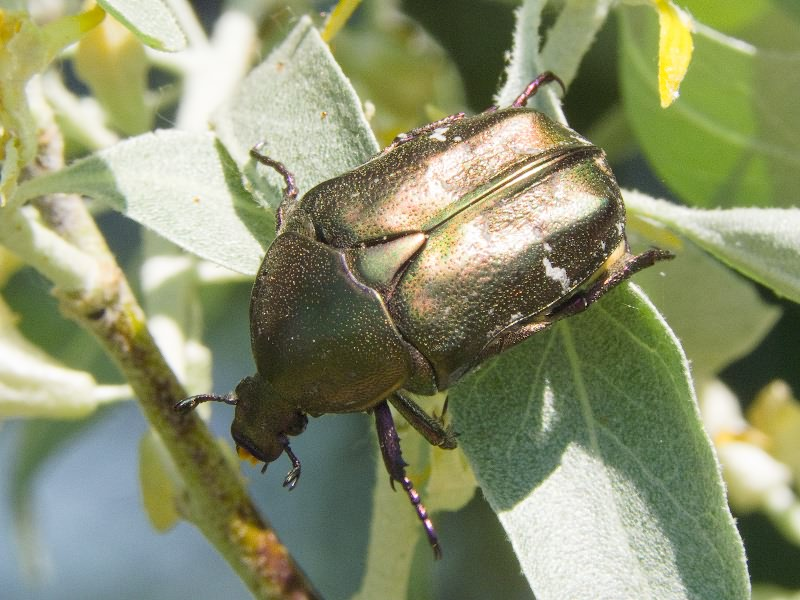Protaetia_metallica: (199, 56, 628, 566)
